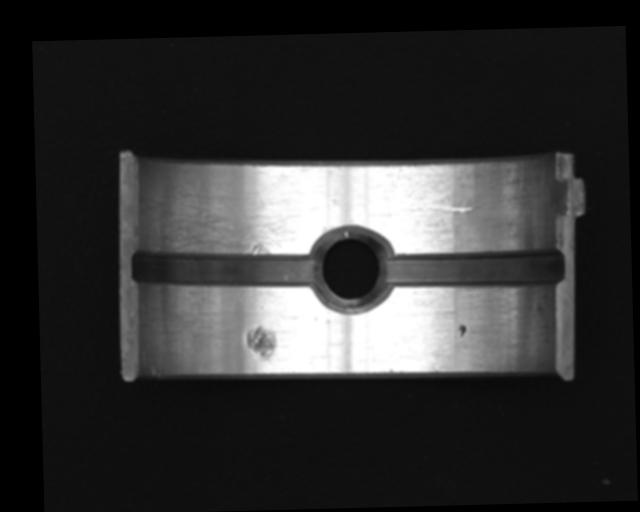bruise: (244, 322, 275, 362), (457, 323, 467, 340)
gap: (131, 244, 321, 292), (381, 248, 564, 289)
hole: (311, 224, 391, 315)
nick: (411, 198, 474, 214)
scratch: (150, 178, 318, 259)
